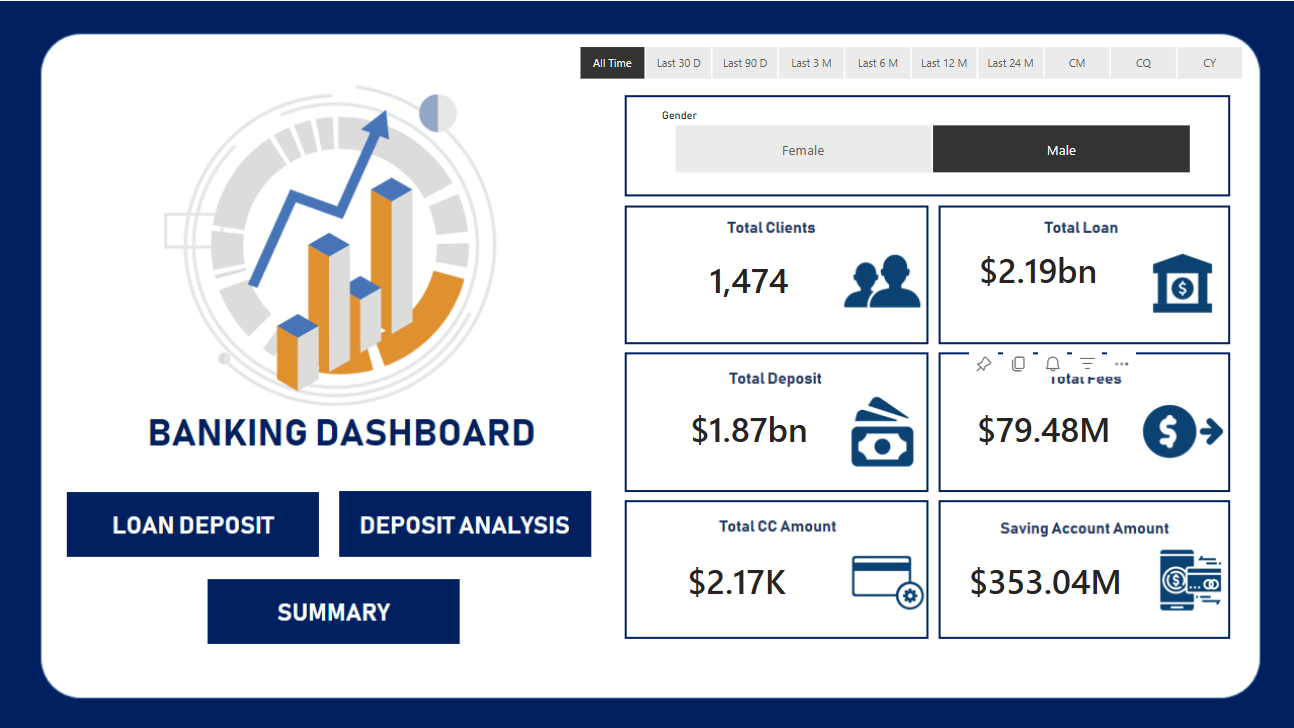

Layout of this report page (visuals, bound fields, positions):
{"tool":"powerbi","page":{"name":"Home","canvas":[1280,720],"ordinal":0},"visuals":[{"type":"slicer","fields":{"Values":["Gender.Gender"]},"box":[640.3,100.8,558.2,75],"z":0},{"type":"card","fields":{"Values":["DAX Measures.Total Clients"]},"box":[640.3,218.1,198.2,114.9],"z":1000},{"type":"card","fields":{"Values":["DAX Measures.Total Loan"]},"box":[933.4,208.7,184.1,114.9],"z":2000},{"type":"card","fields":{"Values":["DAX Measures.Total Deposit"]},"box":[640.3,374.1,198.2,98.5],"z":3000},{"type":"card","fields":{"Values":["DAX Measures.Total CC Amount"]},"box":[628.5,533.6,198.2,79.7],"z":4000},{"type":"card","fields":{"Values":["DAX Measures.Total Fees"]},"box":[938.1,372.9,185.3,99.7],"z":5000},{"type":"card","fields":{"Values":["DAX Measures.Savings Account"]},"box":[933.4,533.6,198.2,79.7],"z":6000},{"type":"actionButton","box":[63.3,483.1,253.3,65.7],"z":7000},{"type":"actionButton","box":[335.4,485.5,250.9,63.3],"z":8000},{"type":"actionButton","box":[205.2,573.4,255.6,61],"z":9000},{"type":"slicer","fields":{"Values":["Period.Name"]},"box":[546.4,38.7,703.6,45.7],"z":10000}]}

Visuals, with their boxes in screenshot pixels (x1, y1, x2, y2), scaled from the page's 1280x720 canvas onto the 1294x728 screenshot:
slicer - Gender.Gender: <region>647, 102, 1212, 178</region>
card - DAX Measures.Total Clients: <region>647, 221, 848, 337</region>
card - DAX Measures.Total Loan: <region>944, 211, 1130, 327</region>
card - DAX Measures.Total Deposit: <region>647, 378, 848, 478</region>
card - DAX Measures.Total CC Amount: <region>635, 540, 836, 620</region>
card - DAX Measures.Total Fees: <region>948, 377, 1136, 478</region>
card - DAX Measures.Savings Account: <region>944, 540, 1144, 620</region>
actionButton: <region>64, 488, 320, 555</region>
actionButton: <region>339, 491, 593, 555</region>
actionButton: <region>207, 580, 466, 641</region>
slicer - Period.Name: <region>552, 39, 1264, 85</region>
